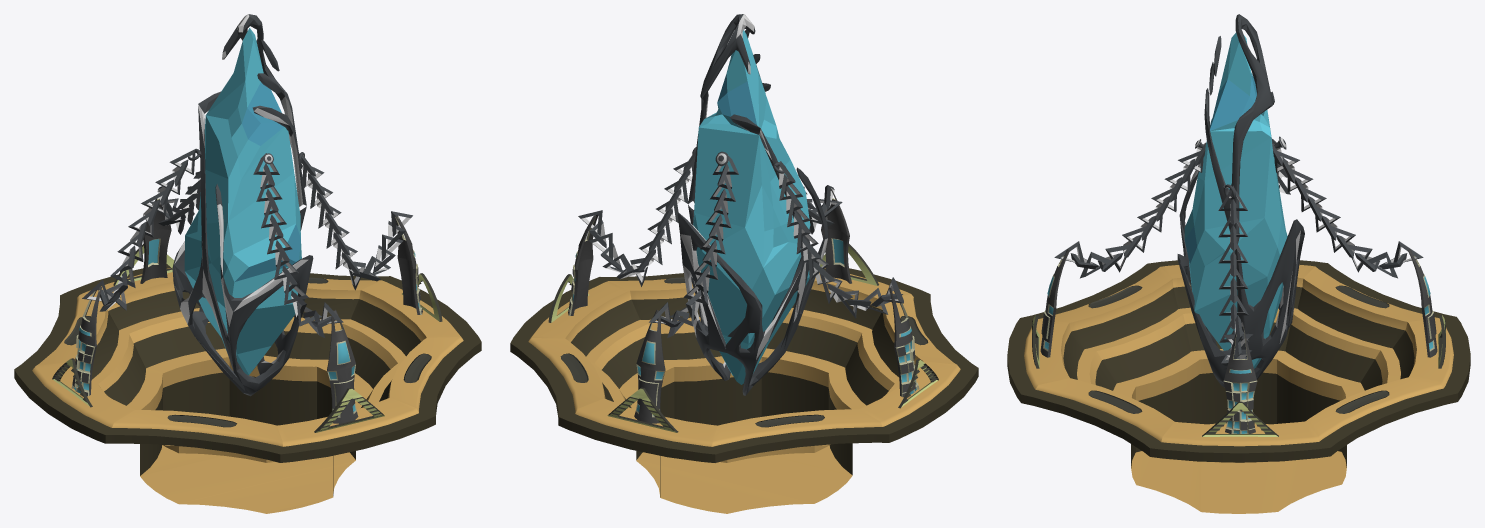
File: TowersDefends_low.fbx
The picture shows the model from 3 angles, left to right: view 1: azimuth 30°, elevation 25°; view 2: azimuth 150°, elevation 25°; view 3: azimuth 270°, elevation 25°; orthographic projection.
Parts seen in each view (by area): view 1: Cylinder.008, Cube.010, Cube.011, Torus.007, Torus.008, Torus.009, Cylinder.009, Cylinder.011, Cylinder.013, Cylinder.010, Cube.008, Cylinder.012 (+1 smaller); view 2: Cylinder.008, Cube.010, Cube.011, Torus.007, Torus.009, Torus.008, Cylinder.009, Cylinder.011, Cube.008, Cylinder.010, Cylinder.013, Cylinder.012 (+1 smaller); view 3: Cylinder.008, Cube.010, Cube.011, Torus.007, Torus.008, Cylinder.013, Cylinder.011, Cylinder.009, Cylinder.010, Cylinder.012, Cube.009, Cube.008.
Part boxes in pixels (x1,y1,x2,y2): Cylinder.008: (14,264,481,513); Cube.010: (184,28,301,375); Cube.011: (172,14,313,396); Torus.007: (150,153,343,337); Torus.008: (298,153,412,290); Torus.009: (82,149,195,311); Cylinder.009: (140,229,358,423); Cylinder.011: (71,257,422,396); Cylinder.013: (64,277,431,427); Cylinder.010: (144,198,355,370); Cube.008: (113,244,384,432); Cylinder.012: (78,215,416,346); Cylinder.008: (510,267,978,513); Cube.010: (693,30,810,384); Cube.011: (677,14,828,395); Torus.007: (649,156,842,337); Torus.009: (779,161,903,318); Torus.008: (578,151,695,286); Cylinder.009: (634,229,851,423); Cylinder.011: (568,258,919,397); Cube.008: (607,243,878,432); Cylinder.010: (636,186,849,370); Cylinder.013: (560,277,928,427); Cylinder.012: (574,214,912,347); Cylinder.008: (1007,260,1470,513); Cube.010: (1184,32,1287,368); Cube.011: (1177,14,1304,387); Torus.007: (1054,142,1423,278); Torus.008: (1218,185,1252,365); Cylinder.013: (1088,285,1389,413); Cylinder.011: (1223,380,1257,433); Cylinder.009: (1040,300,1437,357); Cylinder.010: (1047,248,1430,307); Cylinder.012: (1224,322,1256,382); Cube.009: (1202,401,1278,436); Cube.008: (1032,315,1445,368).
Size of the model in its own units: 402 by 435 by 402.
